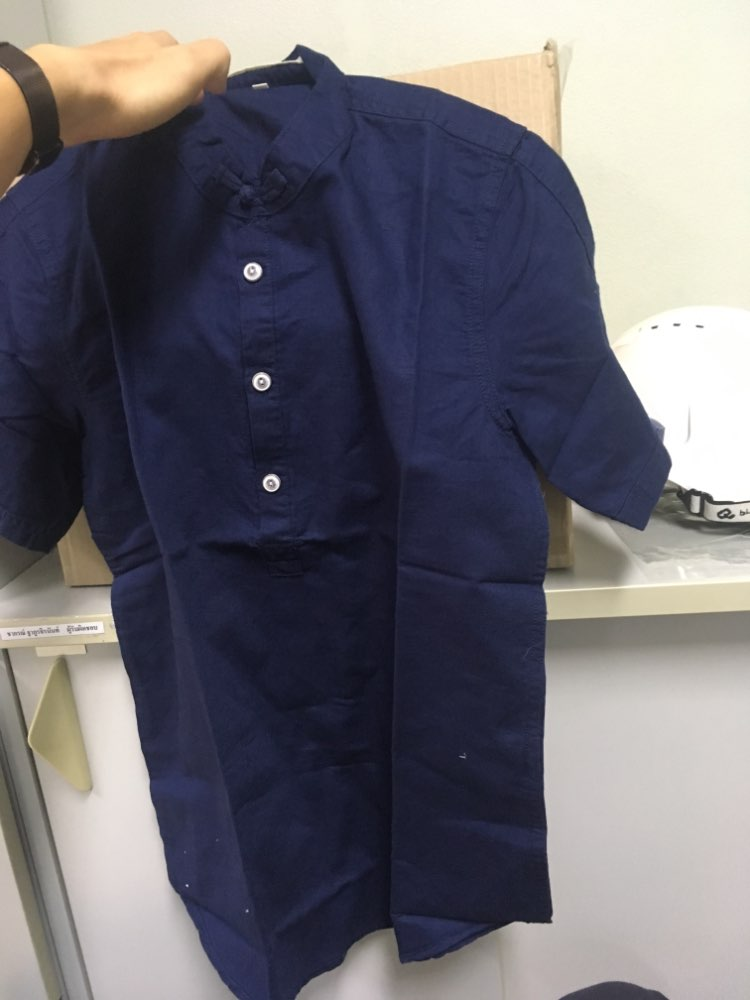shirts: (11, 44, 664, 957)
